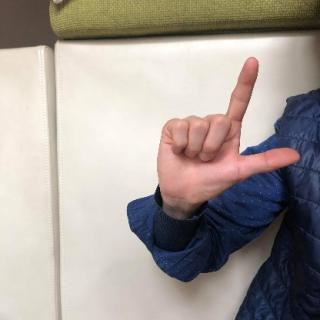LAAM: (150, 52, 304, 218)
